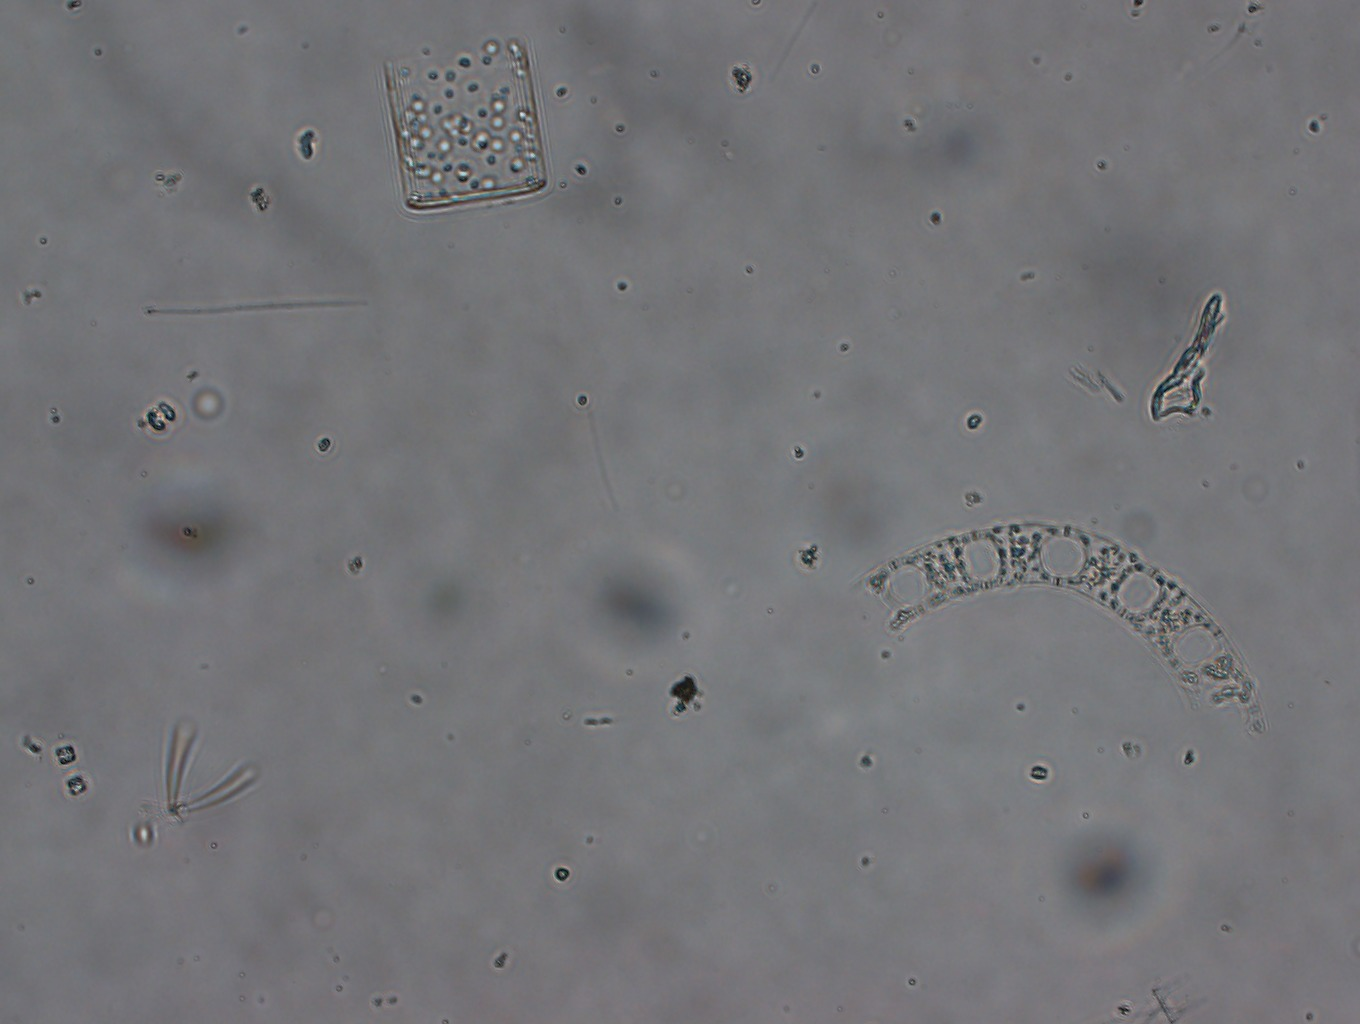eucampia: (853, 518, 1264, 745)
guinardia flaccida: (382, 30, 548, 214)
